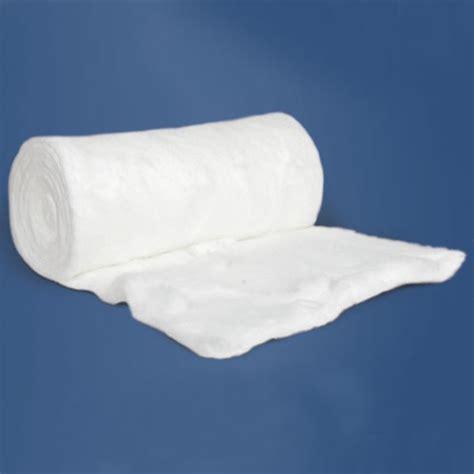cotton: (9, 113, 465, 357)
